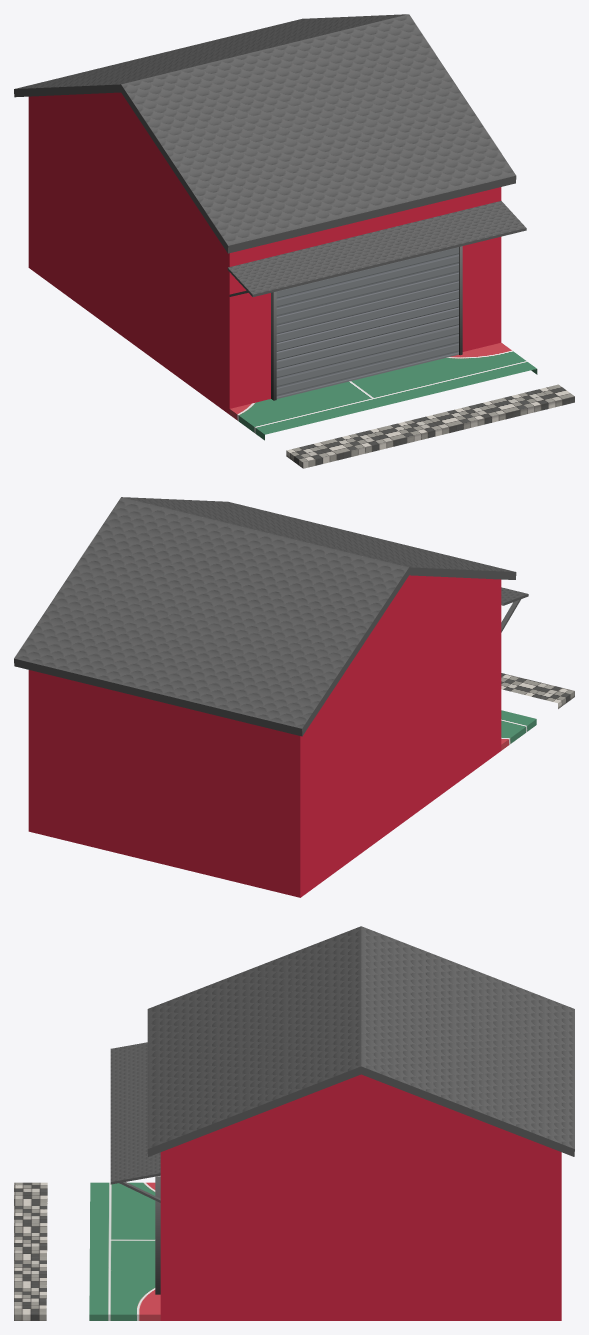
File: Tetangga5.fbx
3 views of the same model, one above another, from view 1: azimuth 30°, elevation 25°; view 2: azimuth 150°, elevation 25°; view 3: azimuth 270°, elevation 25° (orthographic).
Parts seen in each view (by area): view 1: Body2NPCK5_LOD0; view 2: Body2NPCK5_LOD0; view 3: Body2NPCK5_LOD0.
Part boxes in pixels (x1=…): Body2NPCK5_LOD0: x1=14, y1=14, x2=574, y2=468; Body2NPCK5_LOD0: x1=14, y1=497, x2=574, y2=897; Body2NPCK5_LOD0: x1=14, y1=926, x2=574, y2=1320.
Size of what is drawn, in the model's own units: 709 by 610 by 1199.
